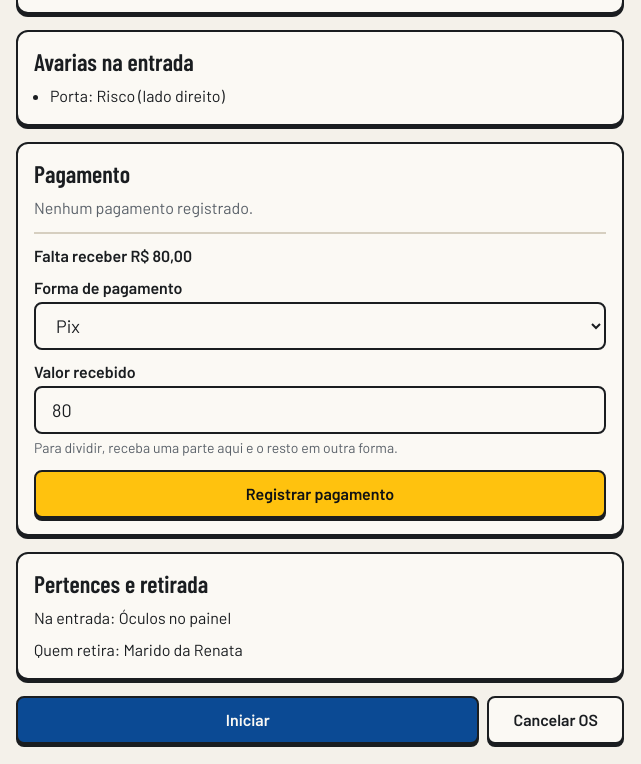
it: Detalhe da OS (dono) › em Aguardando inicia a lavagem e cancela só depois de confirmar
This screenshot has width=641, height=764.
(page scrolled)
Click the button "Iniciar" at (248, 720), box [16, 696, 480, 744]
(page scrolled)
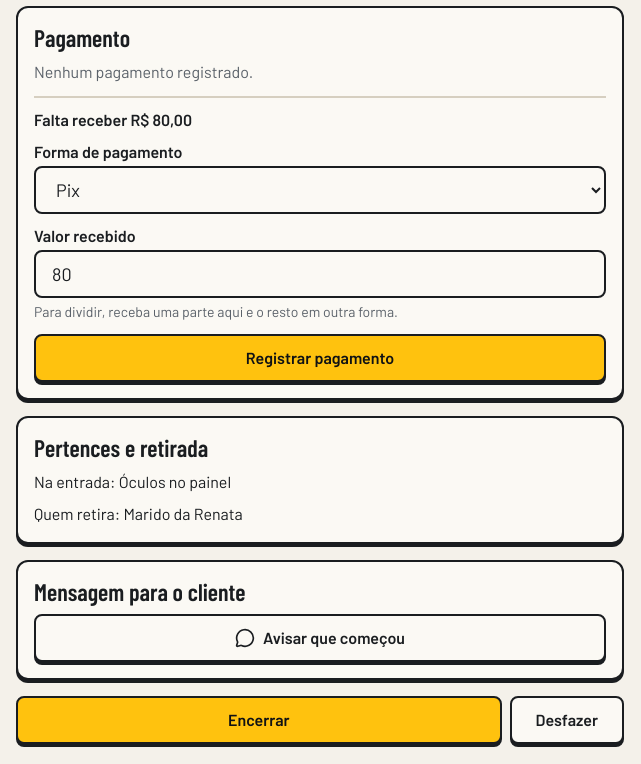
Check: the button "Encerrar" is shown, box [16, 696, 502, 744]
Check: the button "Cancelar OS" is gone
